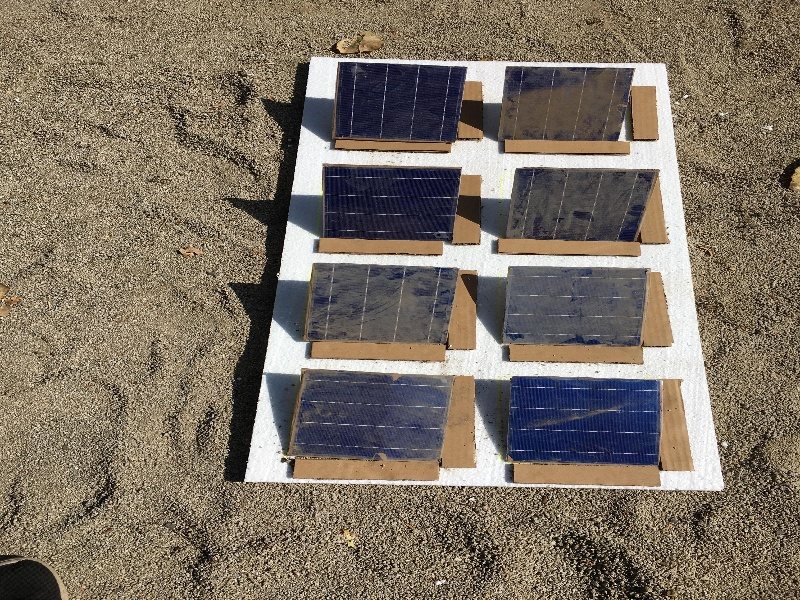clean: (502, 377, 666, 459), (316, 161, 458, 238), (337, 63, 463, 141)
dirty: (296, 371, 445, 461), (499, 263, 648, 344), (314, 264, 454, 345), (508, 171, 652, 245), (501, 66, 634, 143)
